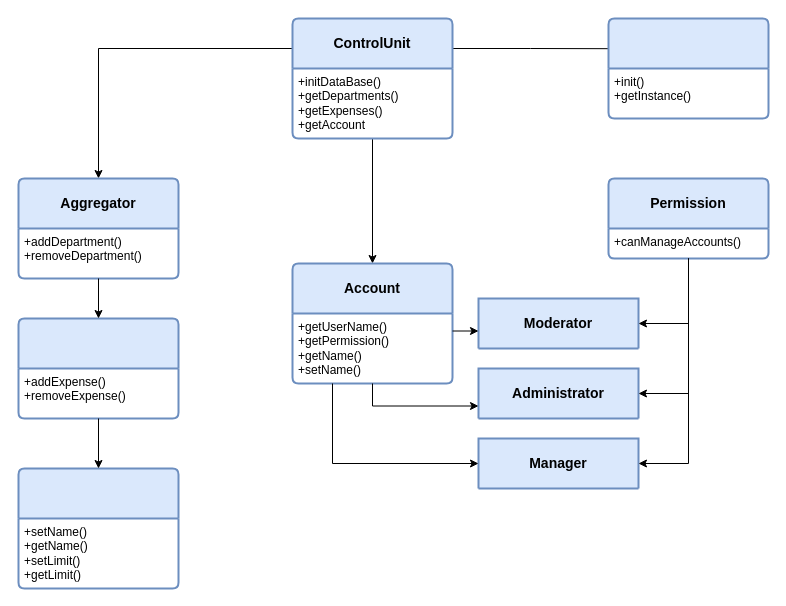
The diagram is 786 pixels wide and 606 high, and some of its shapes have lost their labels. Each missing label, with the box of its shape:
DataBase: (607, 17, 769, 119)
Department: (17, 317, 179, 419)
Expense: (17, 467, 179, 589)
